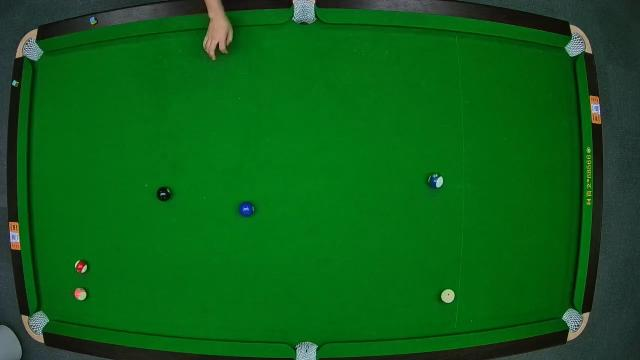bag1: (22, 39, 42, 61)
bag2: (292, 0, 318, 24)
bag3: (564, 33, 588, 55)
bag4: (27, 310, 48, 334)
bag5: (293, 340, 319, 360)
bag6: (562, 308, 582, 330)
ball0: (440, 288, 456, 304)
ball10: (428, 172, 444, 190)
ball11: (75, 258, 89, 274)
ball12: (74, 287, 88, 303)
ball2: (238, 202, 256, 219)
ball8: (156, 187, 172, 202)
